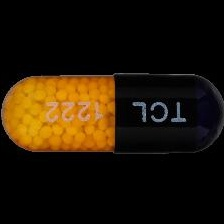0904-0644: (0, 0, 224, 224)
